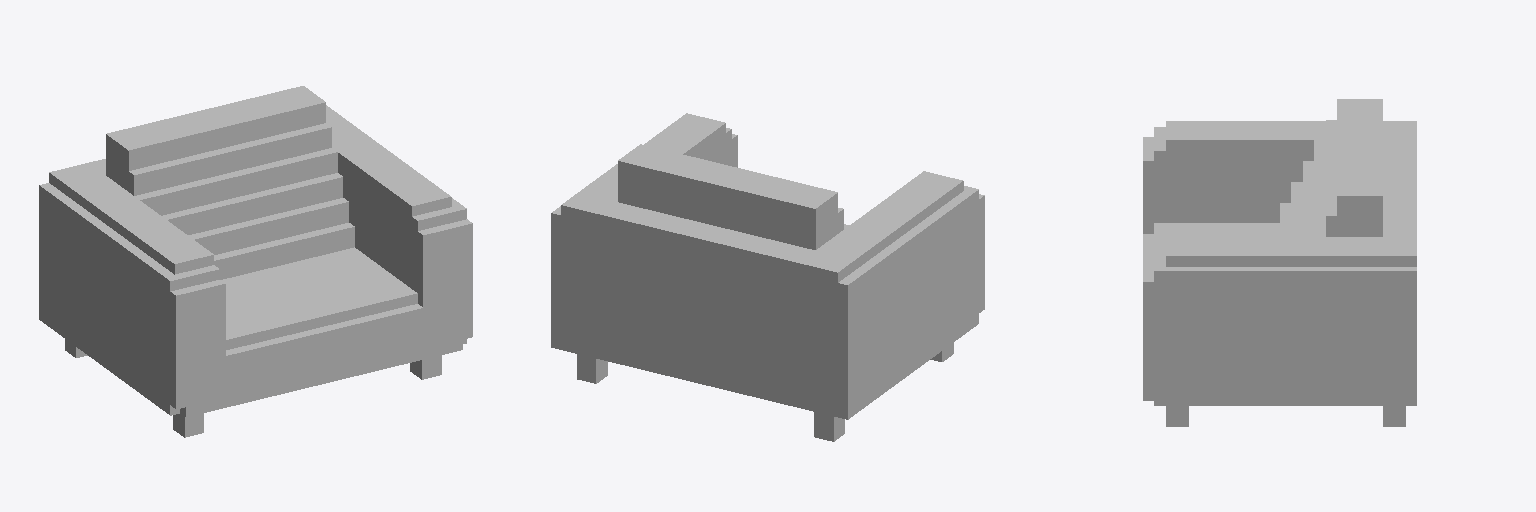
The model's file is sofa.obj.
3 renders of one model, left to right at view 1: azimuth 30°, elevation 25°; view 2: azimuth 150°, elevation 25°; view 3: azimuth 270°, elevation 25°, orthographic.
Visible parts, largest first — view 1: object 1; view 2: object 1; view 3: object 1.
Boxes of the visible parts, x1,y1,x2,y2 form: object 1: [39, 86, 472, 437]; object 1: [551, 113, 984, 441]; object 1: [1143, 99, 1416, 426].
Bounding box in the file's own units: 3 × 2.1 × 2.4.